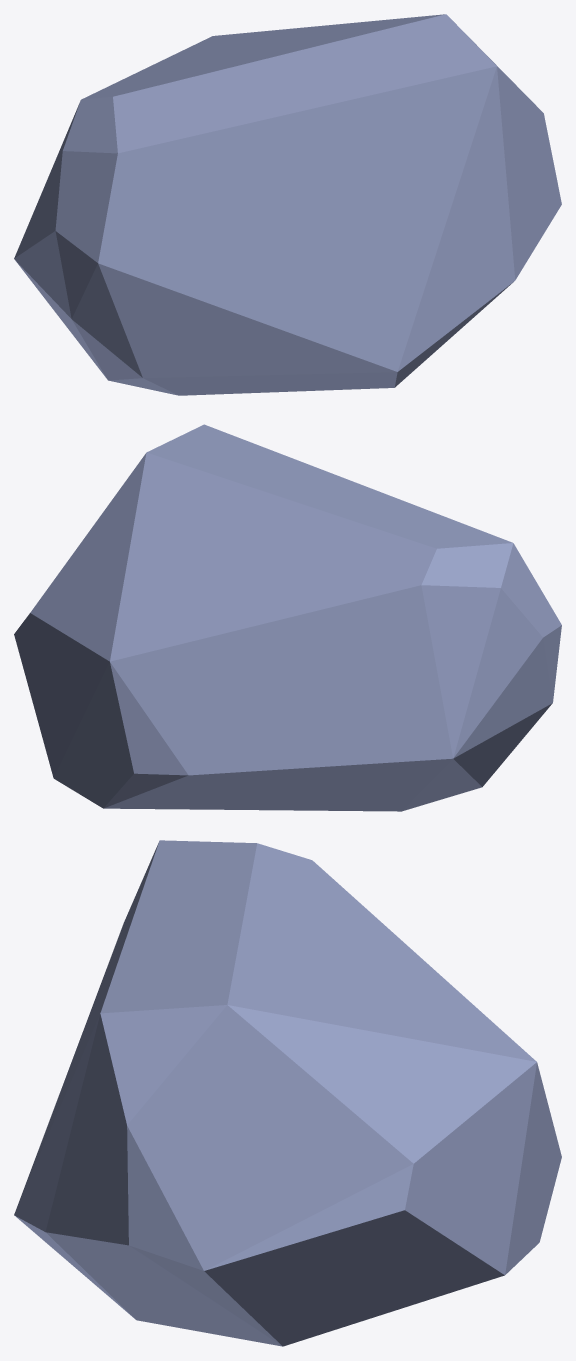
The model's file is Stone_4.fbx.
3 views of the same model, one above another, from view 1: azimuth 30°, elevation 25°; view 2: azimuth 150°, elevation 25°; view 3: azimuth 270°, elevation 25° (orthographic). The views are drawn at different scales.
Parts seen in each view (by area): view 1: Stone_4; view 2: Stone_4; view 3: Stone_4.
Part boxes in pixels (<box>): Stone_4: <box>14,14,561,395</box>; Stone_4: <box>14,424,561,811</box>; Stone_4: <box>14,840,561,1346</box>.
Bounding box in the file's own units: 1.16 × 0.7227 × 0.98.
